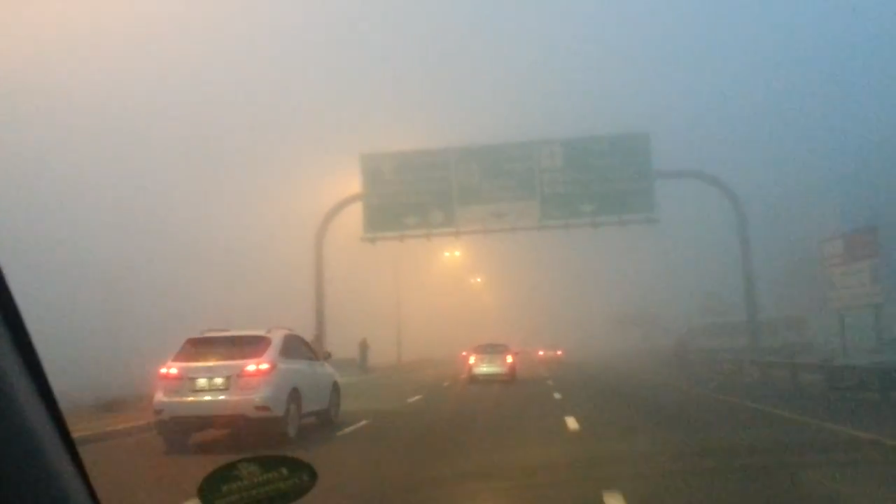car: (147, 322, 343, 447), (465, 341, 522, 383), (456, 343, 493, 367), (532, 342, 571, 364)
